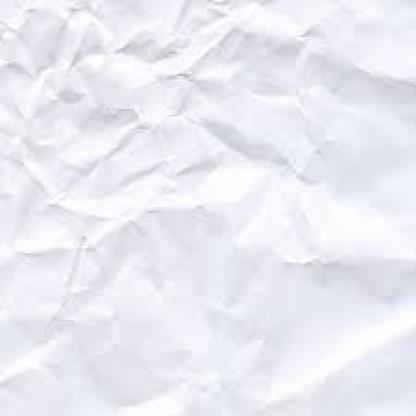paper: (0, 0, 413, 415)
